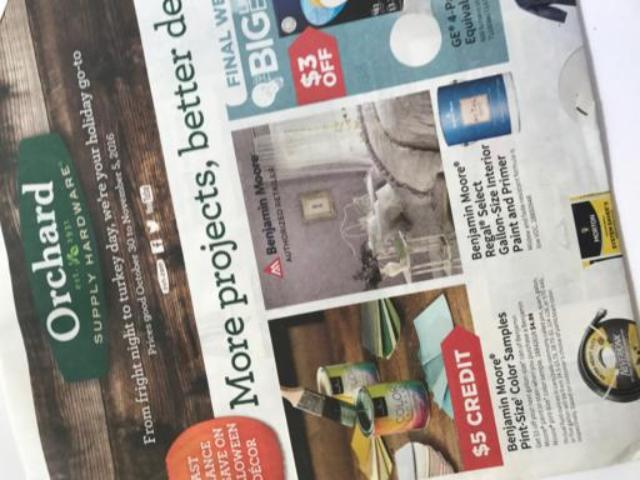cardboard paper: (0, 0, 638, 480)
